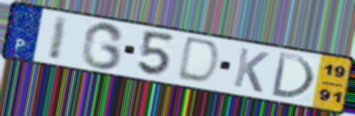5: (137, 28, 178, 79)
D: (174, 36, 223, 87), (268, 50, 317, 101)
G: (78, 21, 127, 71)
I: (46, 14, 71, 62)
K: (231, 46, 272, 95)
